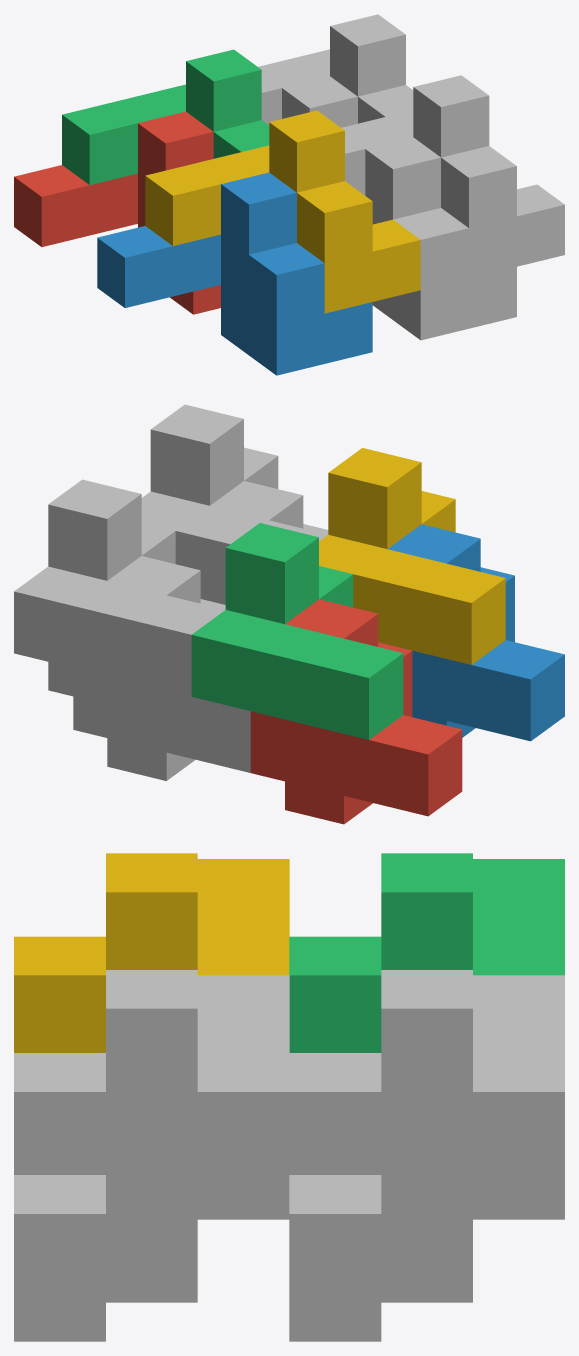
File: tiling.obj
3 views of the same model, one above another, from view 1: azimuth 30°, elevation 25°; view 2: azimuth 150°, elevation 25°; view 3: azimuth 270°, elevation 25° (orthographic). The views are drawn at different scales.
Parts seen in each view (by area): view 1: copy_1_domain_2, copy_1_domain_4, copy_1_domain_8, copy_1_domain_6, copy_1_domain_3, copy_1_domain_1, copy_1_domain_7, copy_1_domain_5; view 2: copy_1_domain_3, copy_1_domain_7, copy_1_domain_4, copy_1_domain_1, copy_1_domain_5, copy_1_domain_8, copy_1_domain_2, copy_1_domain_6; view 3: copy_1_domain_7, copy_1_domain_8, copy_1_domain_3, copy_1_domain_4, copy_1_domain_6, copy_1_domain_5.
Boxes of the visible parts, x1,y1,x2,y2 form: copy_1_domain_2: (97, 172, 372, 375); copy_1_domain_4: (145, 110, 420, 313); copy_1_domain_8: (341, 75, 564, 278); copy_1_domain_6: (365, 137, 516, 340); copy_1_domain_3: (62, 49, 269, 184); copy_1_domain_1: (14, 111, 220, 314); copy_1_domain_7: (258, 14, 413, 125); copy_1_domain_5: (282, 76, 357, 127); copy_1_domain_3: (191, 523, 403, 739); copy_1_domain_7: (14, 479, 225, 696); copy_1_domain_4: (319, 448, 505, 664); copy_1_domain_1: (250, 599, 462, 824); copy_1_domain_5: (73, 556, 250, 780); copy_1_domain_8: (141, 404, 327, 604); copy_1_domain_2: (387, 524, 564, 741); copy_1_domain_6: (210, 481, 328, 534); copy_1_domain_7: (289, 970, 564, 1296); copy_1_domain_8: (14, 970, 289, 1296); copy_1_domain_3: (289, 853, 564, 1052); copy_1_domain_4: (14, 853, 289, 1052); copy_1_domain_6: (14, 1175, 289, 1341); copy_1_domain_5: (289, 1175, 564, 1341).
Size of the model in its own units: 8 by 4 by 6.
